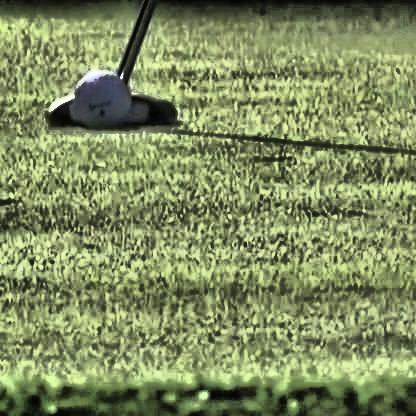golfball: (69, 65, 128, 128)
